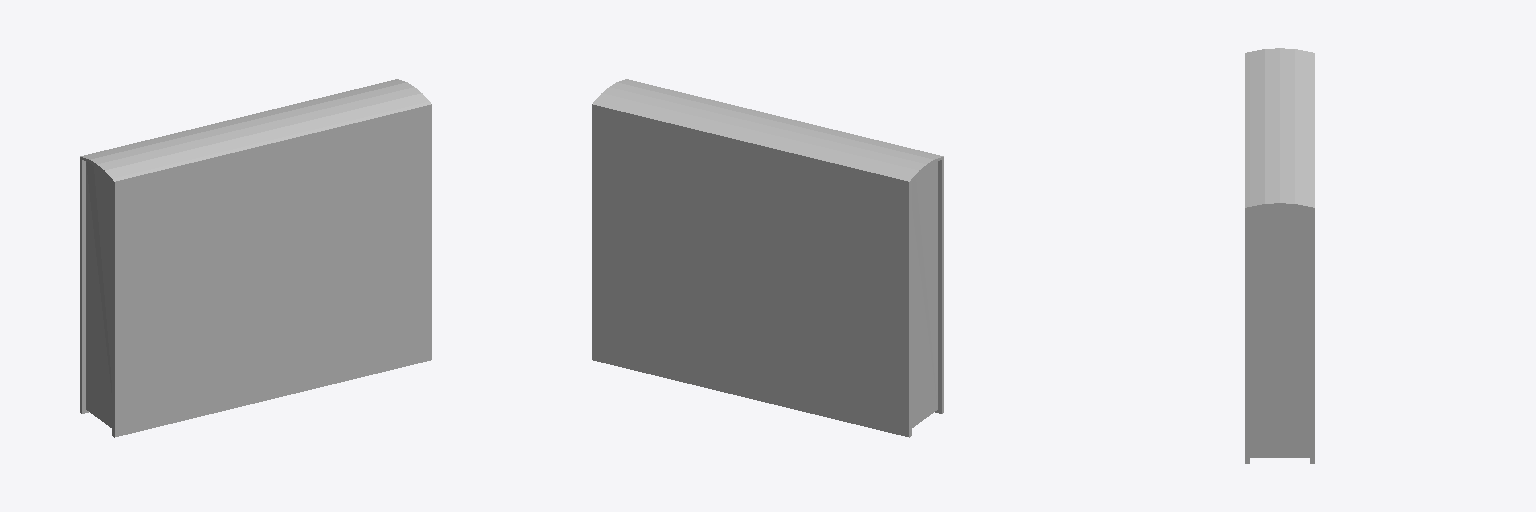
File: blue_book.obj
The picture shows the model from 3 angles: view 1: azimuth 30°, elevation 25°; view 2: azimuth 150°, elevation 25°; view 3: azimuth 270°, elevation 25°; orthographic projection.
Parts seen in each view (by area): view 1: Book_Cube; view 2: Book_Cube; view 3: Book_Cube.
Part boxes in pixels (x1,y1,x2,y2): Book_Cube: (80,79,431,437); Book_Cube: (592,79,943,437); Book_Cube: (1245,48,1314,463).
Size of the model in its own units: 0.5087 by 0.3989 by 0.0959.